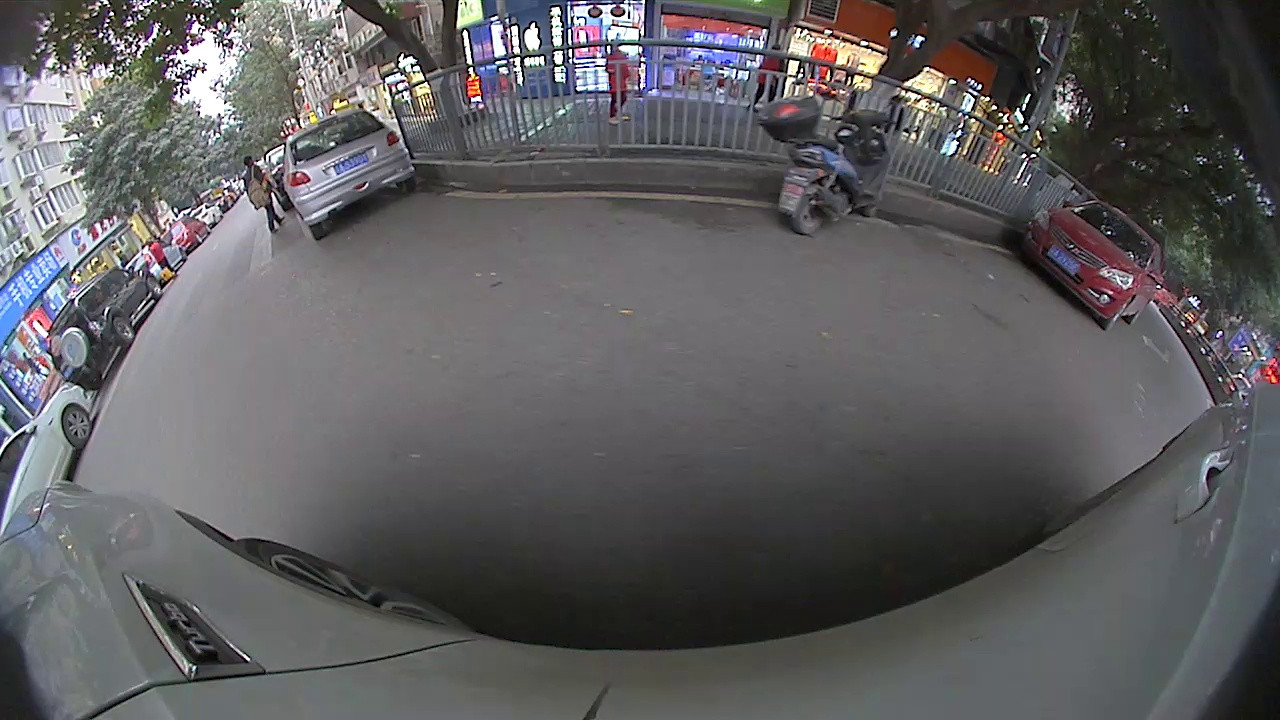car: (1017, 198, 1161, 330), (280, 107, 419, 241), (46, 266, 164, 392), (0, 384, 96, 536), (265, 143, 292, 220)
front: (56, 408, 94, 447)
person: (244, 157, 262, 225)
rear: (795, 190, 833, 234), (110, 317, 136, 343)
rider: (759, 88, 904, 238)
